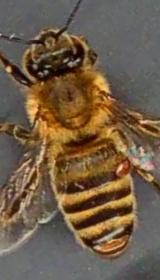varroa_mite: (109, 150, 138, 182)
